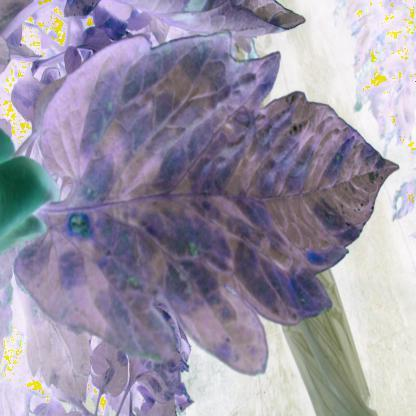Tomato mold leaf: (47, 24, 406, 378)
